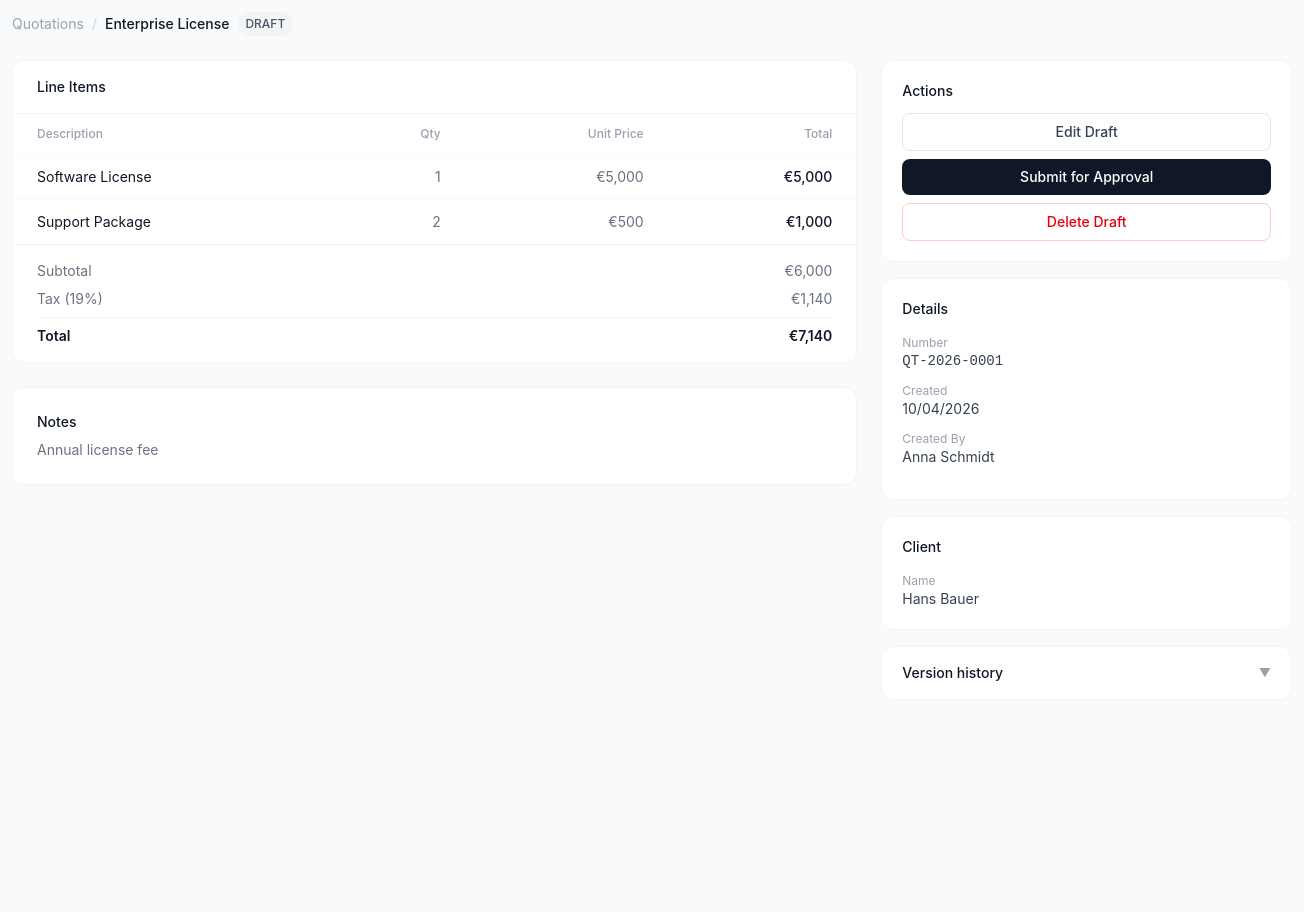
Test: QuotationDetailPage › delete draft › shows confirmation prompt when Delete Draft is clicked
This screenshot has width=1304, height=912.
Click the button "Delete Draft". click: point(1087, 222)
box: x1=902 y1=203 x2=1271 y2=241
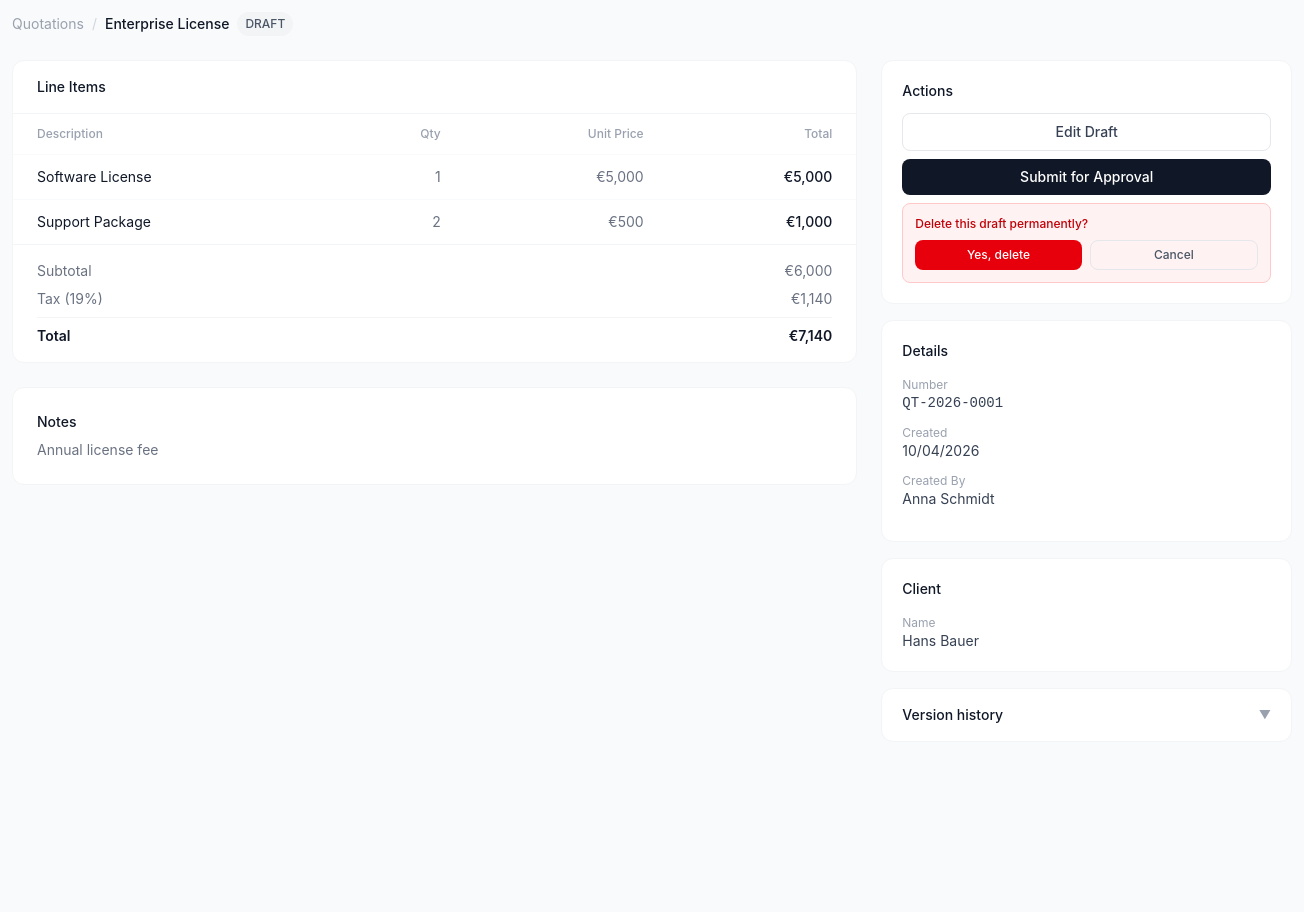
Result: the text "Delete this draft permanently?" is shown at x1=915 y1=216 x2=1088 y2=231
Result: the button "Yes, delete" is shown at x1=915 y1=240 x2=1082 y2=270
Result: the button "Cancel" is shown at x1=1090 y1=240 x2=1258 y2=270
